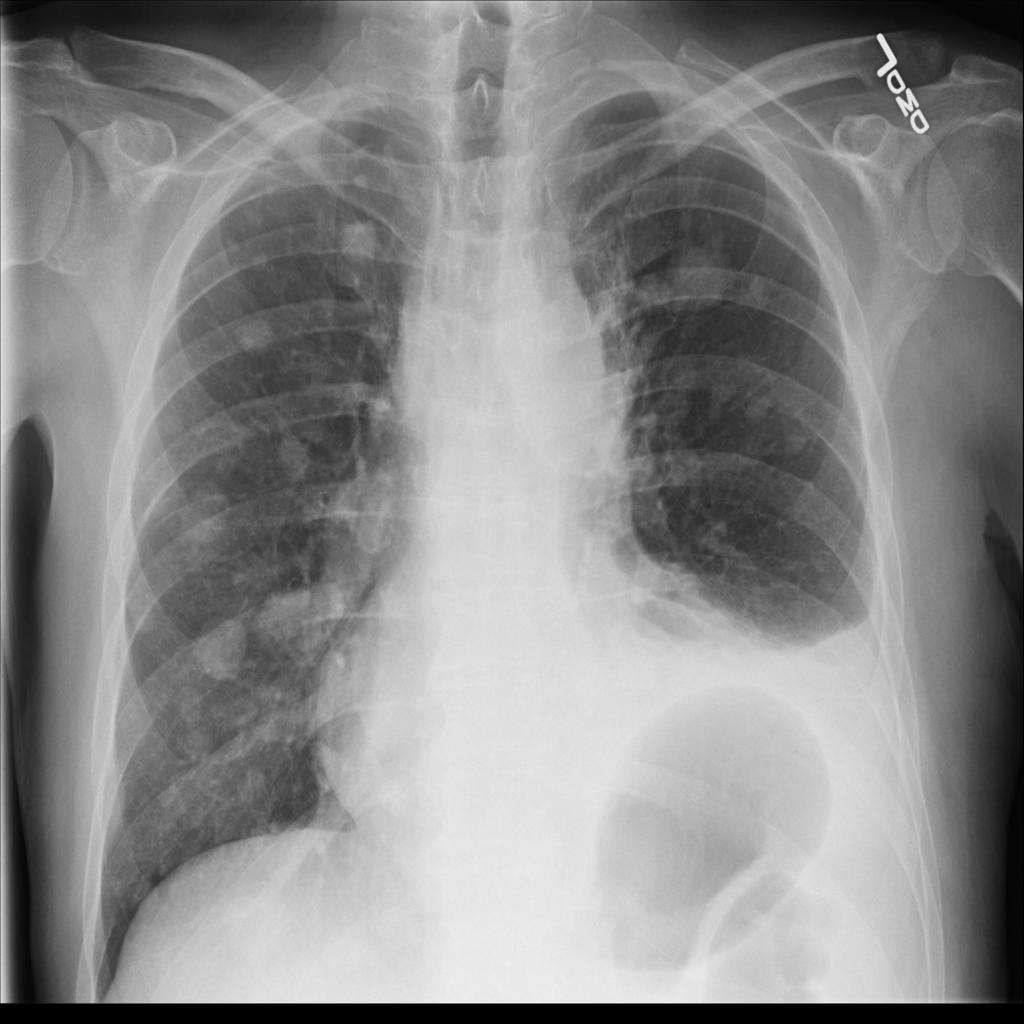nodule: (652, 219, 753, 334), (253, 576, 350, 662), (164, 478, 240, 556), (188, 609, 252, 692), (763, 398, 830, 474), (329, 203, 392, 278), (264, 419, 326, 494), (223, 301, 290, 370), (732, 378, 781, 433), (152, 394, 200, 449), (237, 237, 288, 285), (345, 155, 377, 193)
